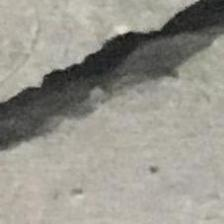Crack: (0, 0, 224, 159)
